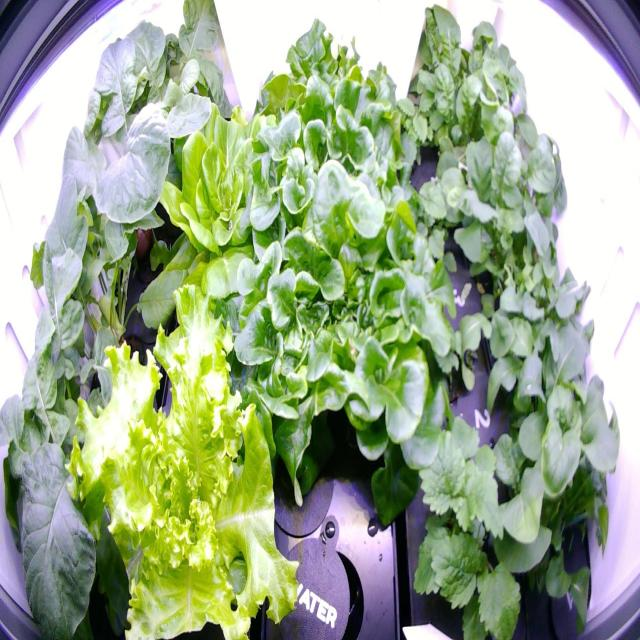Ready: (139, 88, 298, 345)
